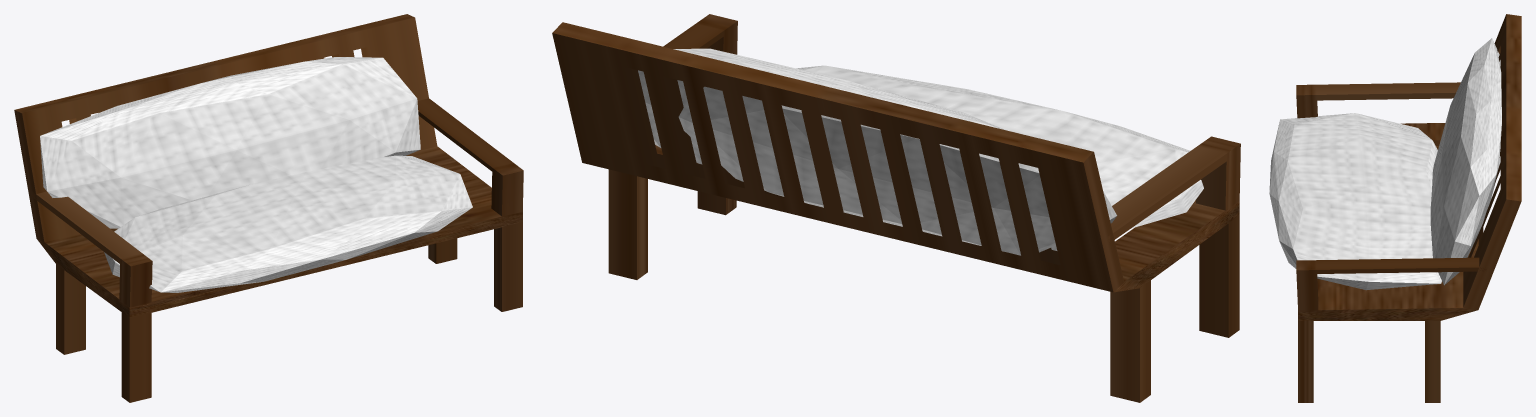
Rendered from couch.fbx.
3 views of the same model, side by side, from view 1: azimuth 30°, elevation 25°; view 2: azimuth 150°, elevation 25°; view 3: azimuth 270°, elevation 25° (orthographic). The views are drawn at different scales.
Parts seen in each view (by area): view 1: Esfera geodésica.003, Cube, Esfera geodésica.001; view 2: Cube, Esfera geodésica.003, Esfera geodésica.001; view 3: Esfera geodésica.001, Cube, Esfera geodésica.003.
Boxes of the visible parts, x1,y1,x2,y2 form: Esfera geodésica.003: (40,57,420,228); Cube: (14,14,523,402); Esfera geodésica.001: (104,155,472,292); Cube: (552,14,1240,402); Esfera geodésica.003: (638,48,1117,255); Esfera geodésica.001: (796,65,1203,228); Esfera geodésica.001: (1269,113,1441,290); Cube: (1296,14,1521,402); Esfera geodésica.003: (1430,38,1501,285).
Bounding box in the file's own units: 1597 × 818 × 918.
2 materials, 2 textured.
